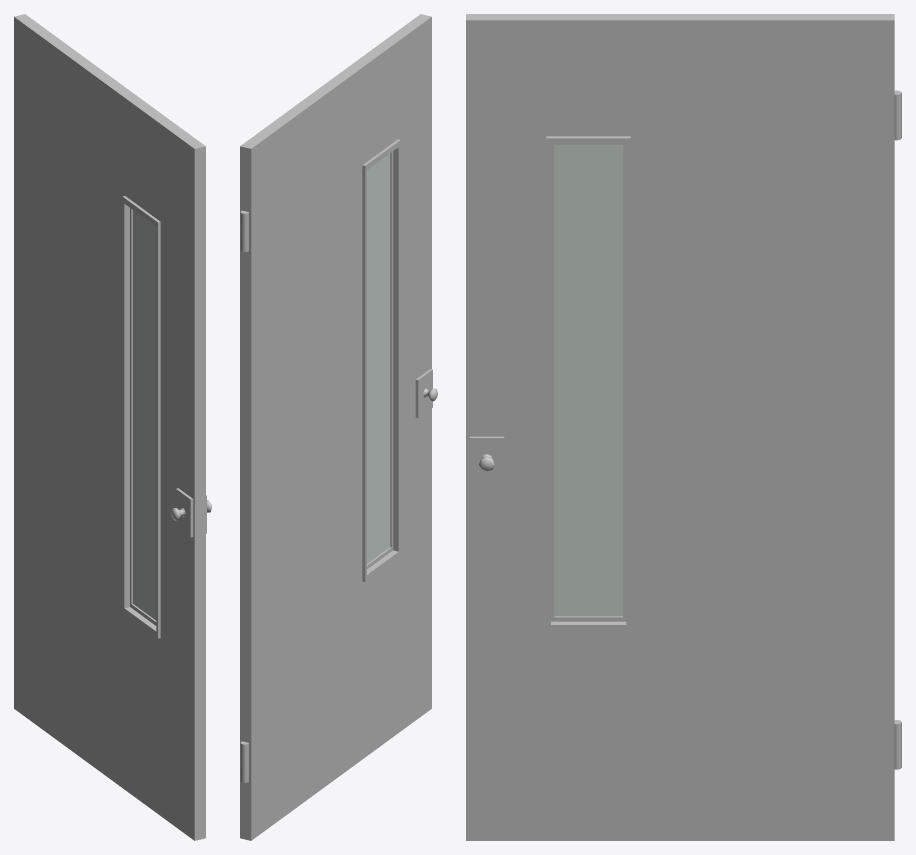
Rendered from SM_Door_02.fbx.
3 views of the same model, side by side, from view 1: azimuth 30°, elevation 25°; view 2: azimuth 150°, elevation 25°; view 3: azimuth 270°, elevation 25° (orthographic). The views are drawn at different scales.
Parts seen in each view (by area): view 1: SM_Door_02; view 2: SM_Door_02; view 3: SM_Door_02.
Boxes of the visible parts, <box> form: SM_Door_02: <box>14,14,211,840</box>; SM_Door_02: <box>240,14,437,840</box>; SM_Door_02: <box>466,14,901,840</box>.
Size of the model in its own units: 13.66 by 238 by 114.
